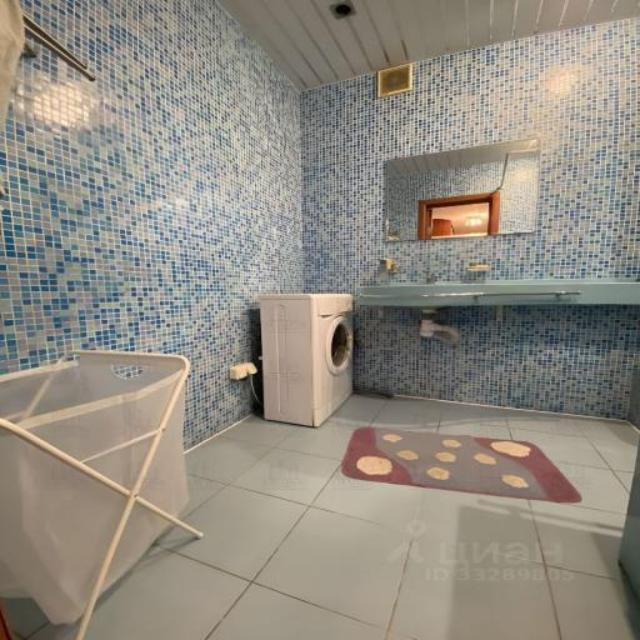Washing-Machine: (260, 291, 358, 427)
